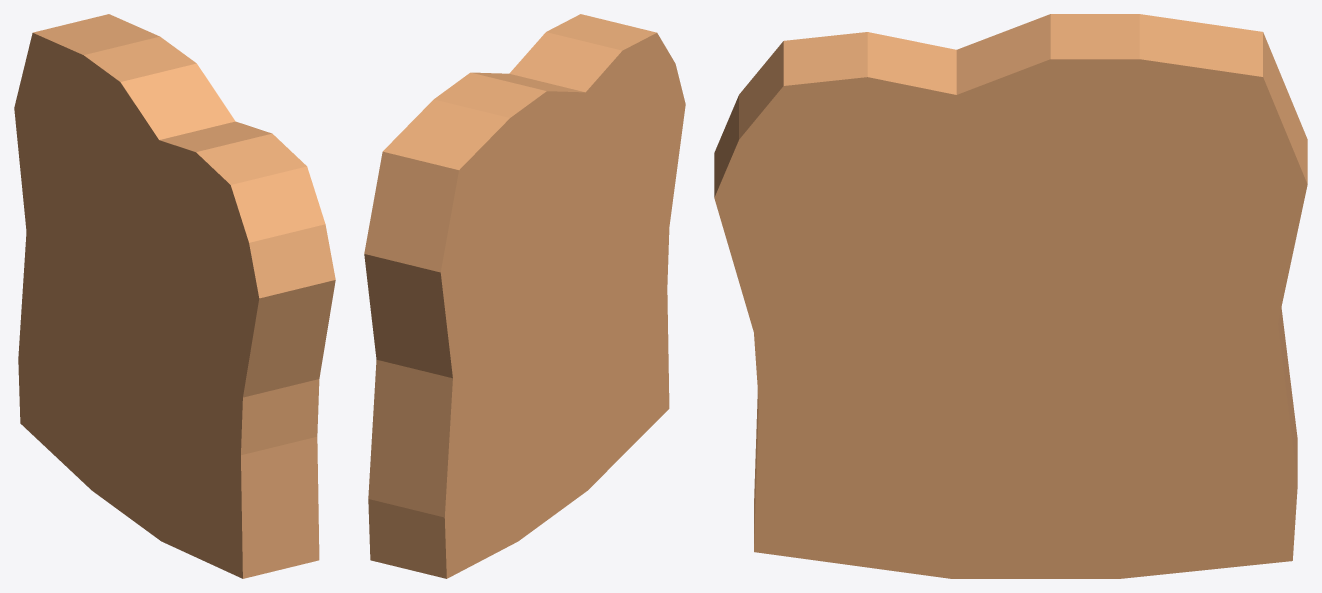
The picture shows the model from 3 angles, left to right: view 1: azimuth 30°, elevation 25°; view 2: azimuth 150°, elevation 25°; view 3: azimuth 270°, elevation 25°; orthographic projection. The views are drawn at different scales.
Parts seen in each view (by area): view 1: stone; view 2: stone; view 3: stone.
Part boxes in pixels (box(x1,y1,x2,y2)): stone: box(14, 14, 335, 578); stone: box(364, 14, 685, 578); stone: box(714, 14, 1307, 578).
Bounding box in the file's own units: 0.0216 × 0.116 × 0.12.
